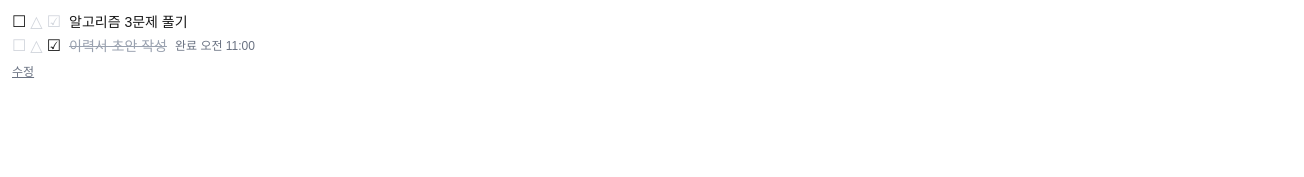
Test: GoalsEditor › discards changes and exits edit mode when "취소" is clicked
Click the button "수정": [23, 72] box [12,64,34,80]
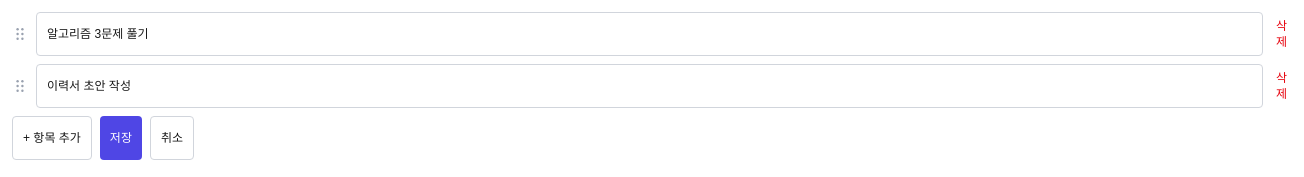
Replace the text in the 1st field showing "알고리즘 3문제 풀기" with "바뀐 텍스트": [649, 34] box [36,12,1263,56]
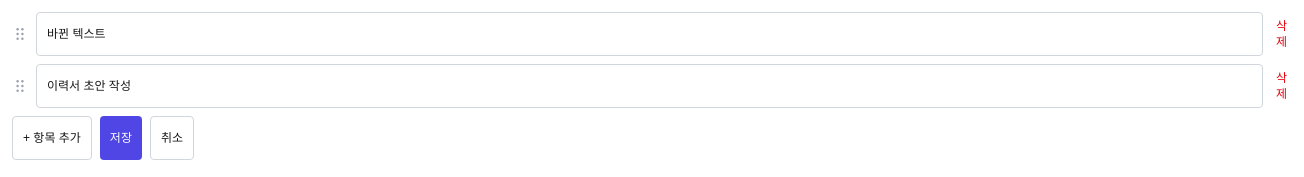
Click the button "취소": [172, 138] box [150,116,194,160]
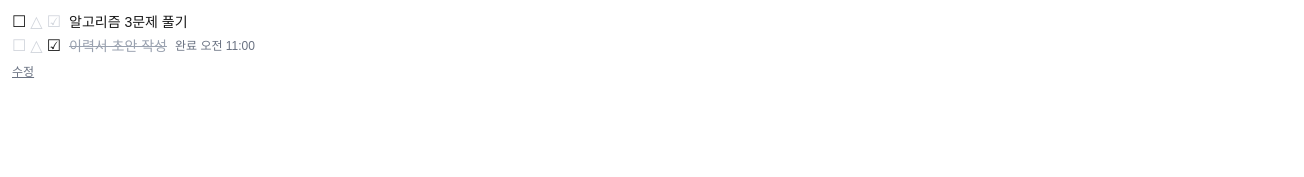
Expected: the text "바뀐 텍스트" is not shown
Now the text "알고리즘 3문제 풀기" is shown, box [69,12,188,32]
